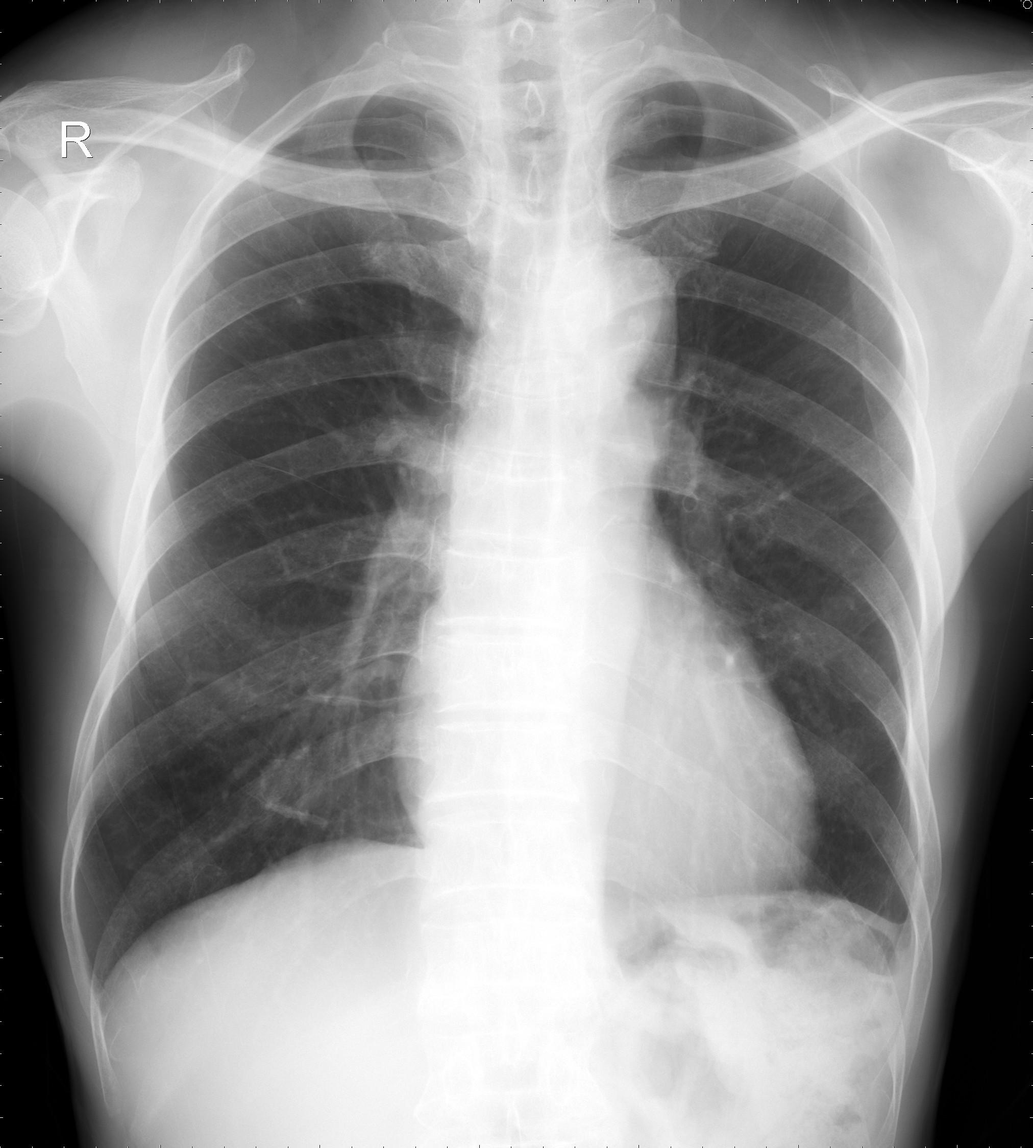Pleural thickening: (888, 907, 925, 964)
